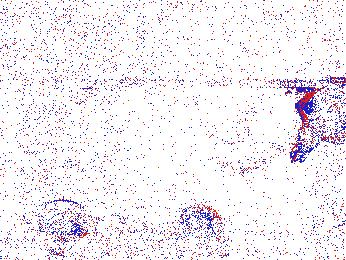flame jellyfish: (287, 88, 344, 164), (37, 198, 91, 254), (177, 204, 231, 244)
